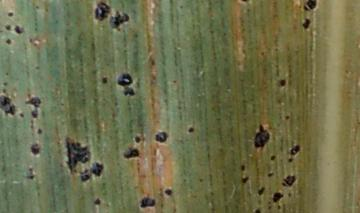tarspot: (62, 138, 92, 173), (107, 10, 131, 31), (116, 72, 136, 96), (253, 123, 270, 149), (24, 95, 41, 118), (1, 95, 17, 117), (93, 2, 111, 21), (139, 196, 157, 210), (122, 146, 140, 159), (90, 160, 103, 178), (281, 174, 297, 188), (153, 130, 168, 144), (302, 1, 319, 13), (271, 190, 284, 204), (78, 169, 91, 182), (29, 142, 41, 156), (301, 17, 312, 30), (289, 144, 301, 155), (13, 24, 25, 35), (239, 175, 249, 184), (100, 75, 109, 85), (257, 185, 265, 196), (266, 170, 275, 179), (93, 197, 102, 206), (133, 135, 141, 145), (3, 24, 13, 32), (278, 78, 286, 87), (164, 188, 173, 196), (149, 57, 156, 67), (4, 38, 13, 45), (287, 156, 294, 164), (286, 190, 293, 198), (6, 11, 14, 18), (258, 49, 265, 57), (29, 118, 34, 129), (269, 154, 276, 161), (284, 114, 291, 121), (239, 164, 245, 172), (188, 126, 194, 133), (275, 204, 282, 210), (28, 174, 35, 180), (19, 112, 25, 119), (34, 64, 40, 71), (253, 208, 261, 213), (37, 127, 42, 135), (2, 81, 8, 87), (266, 205, 272, 211), (1, 88, 6, 95), (171, 79, 178, 84), (34, 4, 39, 10), (198, 177, 204, 182), (178, 4, 184, 9), (267, 200, 272, 206), (238, 1, 250, 3), (4, 71, 8, 77)
